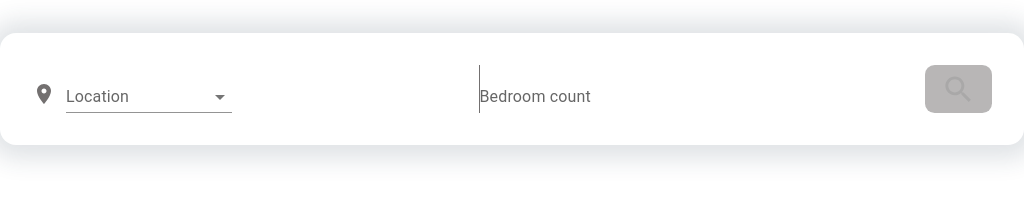
Test case: MainSearch component › has change count bedrooms when click button plus
What coordinates should you click on to do the following:
click the text "Bedroom count"
I would click on:
 (544, 96)
Its box is [480,85,610,108].
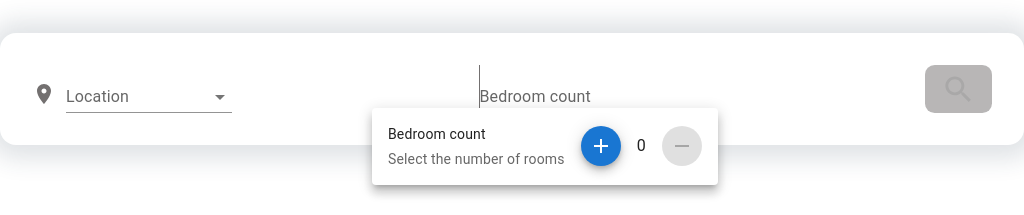
What coordinates should you click on to do the following:
click the button named "add"
I would click on:
 (601, 146)
Its box is [581,126,621,166].
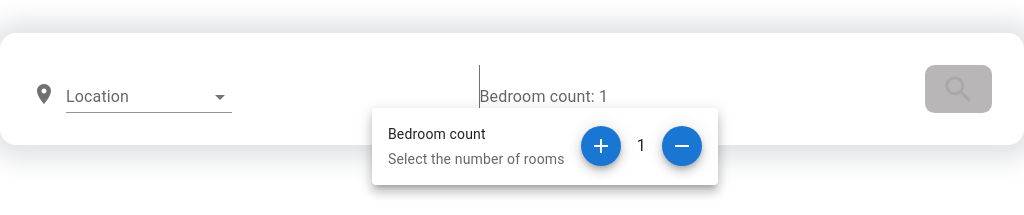
Expected: the text "Bedroom count: 1" is shown, [480,85,610,108]
